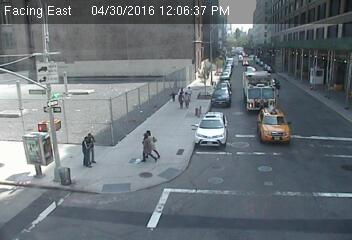neg: (201, 139, 227, 175), (307, 75, 331, 106), (57, 165, 80, 196), (212, 187, 234, 217), (26, 134, 48, 164), (262, 134, 283, 162), (290, 39, 311, 66), (47, 93, 67, 120), (13, 41, 32, 66), (240, 181, 258, 205), (94, 50, 112, 74), (182, 27, 200, 51), (290, 138, 308, 161), (131, 62, 148, 85), (242, 32, 259, 54), (258, 71, 274, 93), (262, 102, 278, 124)
pos: (135, 132, 158, 163), (77, 137, 100, 167), (181, 93, 193, 110), (175, 90, 185, 103), (185, 83, 195, 96), (168, 89, 178, 102)
